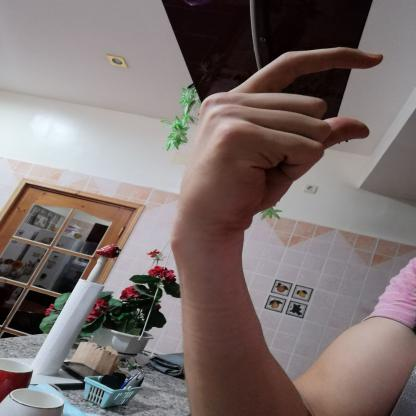DELL: (160, 33, 399, 250)
